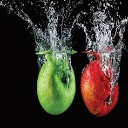apple: (37, 57, 76, 115)
